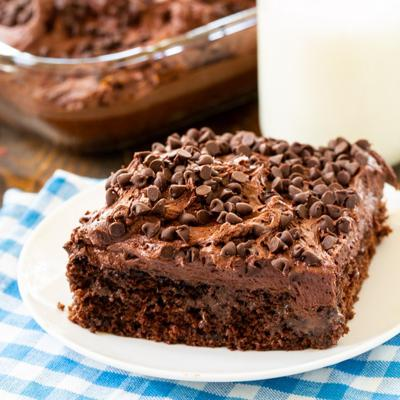cake: (64, 122, 389, 354)
